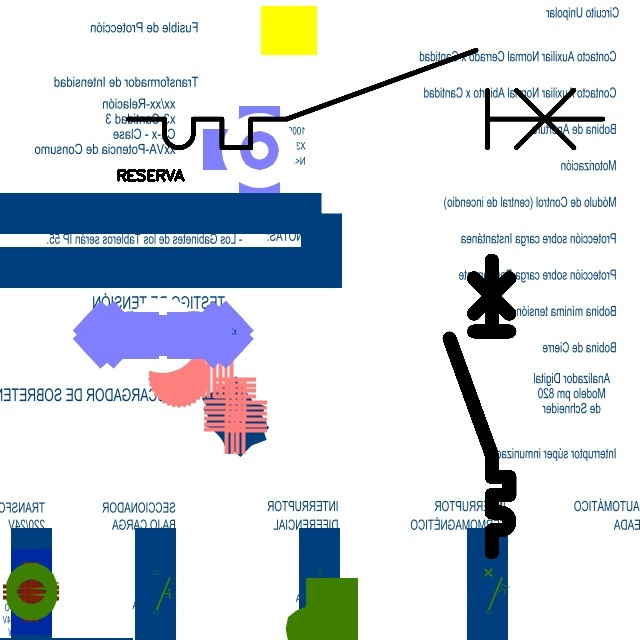interruptor_termomagnetico: (116, 38, 615, 160), (442, 253, 517, 560)
